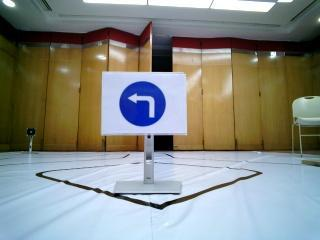left: (102, 71, 183, 134)
